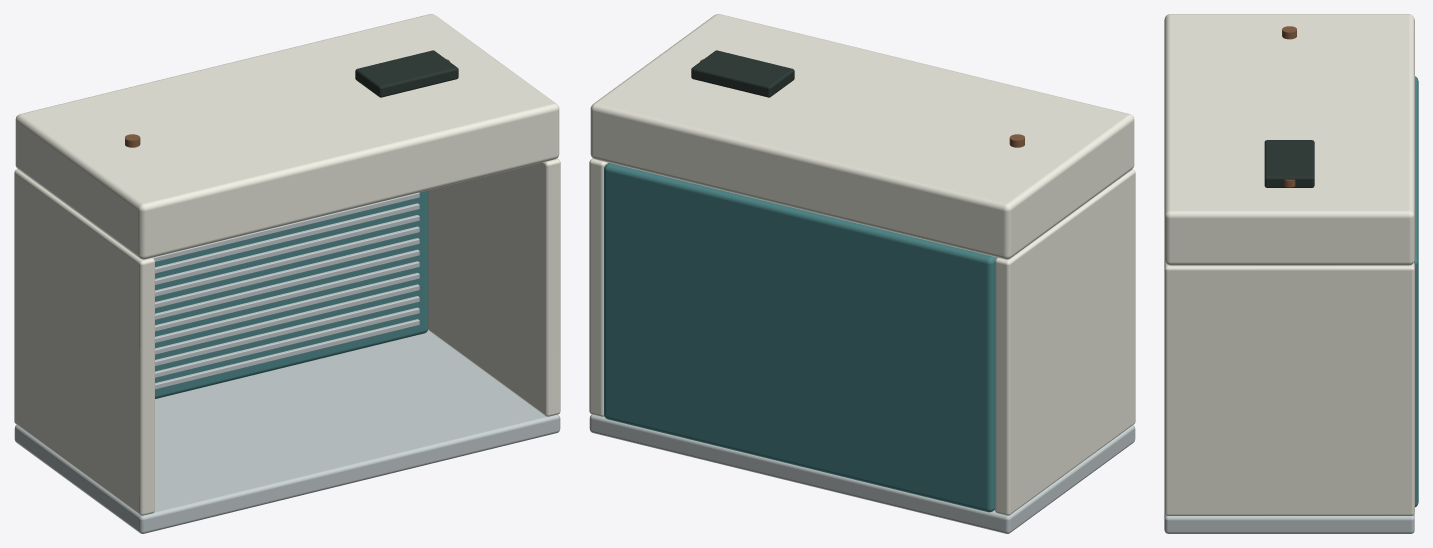
The model's file is mushroom-farm-and-grow-rooms-filtered-airflow-hood-61b2381c__30817.glb.
3 renders of one model, left to right at view 1: azimuth 30°, elevation 25°; view 2: azimuth 150°, elevation 25°; view 3: azimuth 270°, elevation 25°, orthographic. The views are drawn at different scales.
Visible parts, largest first — view 1: filtered-airflow-hood; view 2: filtered-airflow-hood; view 3: filtered-airflow-hood.
Boxes of the visible parts, bbox=[...] form: filtered-airflow-hood: bbox=[14, 14, 560, 533]; filtered-airflow-hood: bbox=[589, 14, 1135, 533]; filtered-airflow-hood: bbox=[1164, 14, 1418, 533].
Size of the model in its own units: 0.951 by 0.735 by 0.5075.
